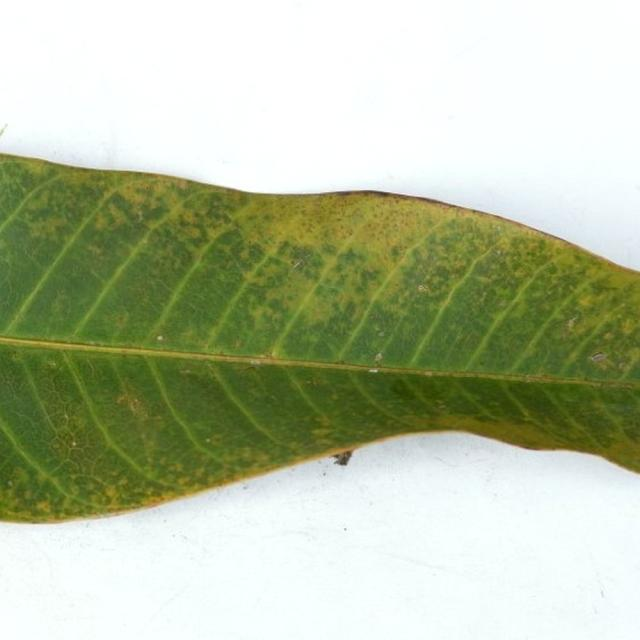Mango: (1, 155, 639, 522)
Powdery_Mildew: (322, 201, 429, 249), (21, 277, 87, 332), (21, 197, 92, 247), (311, 423, 343, 450), (9, 464, 37, 493), (95, 500, 147, 515), (334, 246, 364, 271), (599, 329, 625, 350), (163, 459, 190, 476), (30, 496, 56, 513), (620, 316, 638, 336), (115, 392, 137, 408), (103, 485, 119, 501), (309, 376, 325, 386), (634, 430, 640, 445), (618, 361, 628, 370), (137, 211, 144, 222), (47, 361, 57, 368), (436, 402, 446, 409), (597, 381, 606, 388), (561, 332, 567, 339), (217, 351, 225, 356), (7, 481, 13, 487)
